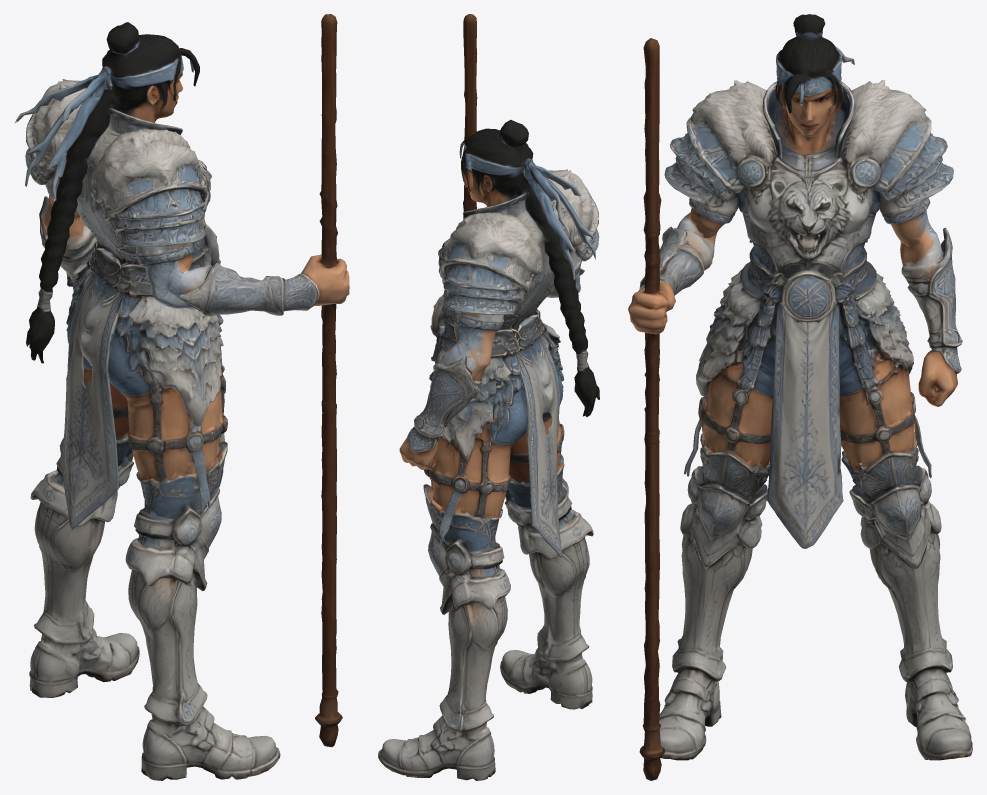
The model's file is vanguardalt-WhiteSteppe-tripo.glb.
3 views of the same model, side by side, from view 1: azimuth 30°, elevation 25°; view 2: azimuth 150°, elevation 25°; view 3: azimuth 270°, elevation 25° (orthographic). The views are drawn at different scales.
Parts seen in each view (by area): view 1: tripo_node_a61f328b-0bae-48ce-82fa-f816920be3bd; view 2: tripo_node_a61f328b-0bae-48ce-82fa-f816920be3bd; view 3: tripo_node_a61f328b-0bae-48ce-82fa-f816920be3bd.
Boxes of the visible parts, left/top/right/bottom form: tripo_node_a61f328b-0bae-48ce-82fa-f816920be3bd: left=15, top=14, right=349, bottom=780; tripo_node_a61f328b-0bae-48ce-82fa-f816920be3bd: left=378, top=14, right=599, bottom=780; tripo_node_a61f328b-0bae-48ce-82fa-f816920be3bd: left=628, top=14, right=972, bottom=780.
Size of the model in its own units: 0.342 by 1 by 0.4152.
1 material, 1 textured.
